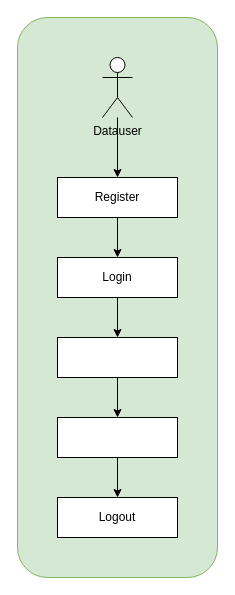
Image size: 235x595. Some labels were removed from this diagram. Each missing label, with the box of its shape:
Add Passwords: (56, 336, 178, 378)
View Passwords: (56, 416, 178, 458)
